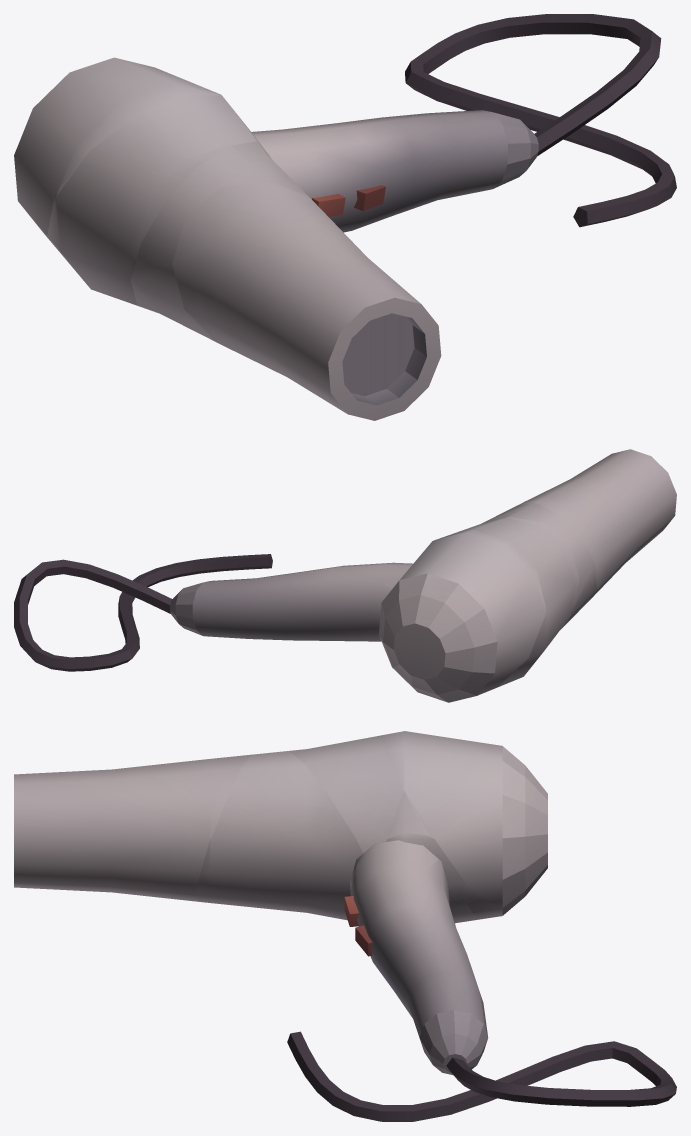
The model's file is M_hairdryer_fragments.FBX.
3 renders of one model, top to bottom at view 1: azimuth 30°, elevation 25°; view 2: azimuth 150°, elevation 25°; view 3: azimuth 270°, elevation 25°, orthographic. The views are drawn at different scales.
Parts seen in each view (by area): view 1: Cylinder015_Part_2, Cylinder015_Part_3, Cylinder015_Part_5, Cylinder015_Part_4, Cylinder015_Part_1; view 2: Cylinder015_Part_3, Cylinder015_Part_4, Cylinder015_Part_2, Cylinder015_Part_5, Cylinder015_Part_1; view 3: Cylinder015_Part_3, Cylinder015_Part_2, Cylinder015_Part_4, Cylinder015_Part_1, Cylinder015_Part_5.
Part boxes in pixels (box(x1,y1,x2,y2)): Cylinder015_Part_2: box(172, 180, 441, 420); Cylinder015_Part_3: box(251, 14, 676, 232); Cylinder015_Part_5: box(47, 94, 268, 305); Cylinder015_Part_4: box(14, 57, 221, 255); Cylinder015_Part_1: box(131, 141, 307, 341); Cylinder015_Part_3: box(14, 554, 412, 671); Cylinder015_Part_4: box(379, 530, 545, 702); Cylinder015_Part_2: box(518, 449, 676, 602); Cylinder015_Part_5: box(436, 517, 579, 686); Cylinder015_Part_1: box(473, 502, 596, 629); Cylinder015_Part_3: box(287, 832, 676, 1121); Cylinder015_Part_2: box(14, 754, 250, 901); Cylinder015_Part_4: box(381, 731, 547, 919); Cylinder015_Part_1: box(195, 751, 364, 920); Cylinder015_Part_5: box(289, 735, 479, 923).
Size of the model in its own units: 35.75 by 35.83 by 10.68.
